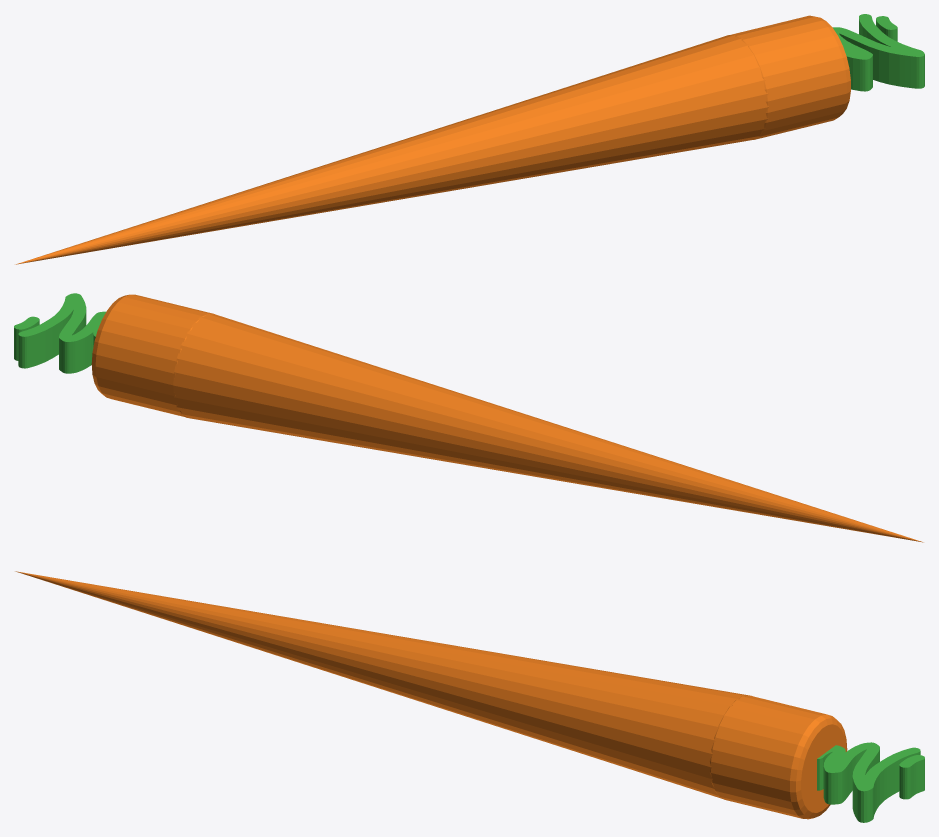
The model's file is carrot top 11.obj.
3 renders of one model, top to bottom at view 1: azimuth 30°, elevation 25°; view 2: azimuth 150°, elevation 25°; view 3: azimuth 330°, elevation 25°, orthographic.
Visible parts, largest first — view 1: group_0_16089887, group_0_4634441; view 2: group_0_16089887, group_0_4634441; view 3: group_0_16089887, group_0_4634441.
Part boxes in pixels (box(x1,y1,x2,y2)): group_0_16089887: box(15, 15, 850, 264); group_0_4634441: box(832, 14, 924, 91); group_0_16089887: box(91, 294, 923, 542); group_0_4634441: box(14, 293, 105, 373); group_0_16089887: box(15, 571, 847, 819); group_0_4634441: box(817, 742, 924, 822).
Size of the model in its own units: 191 by 20 by 21.59.
